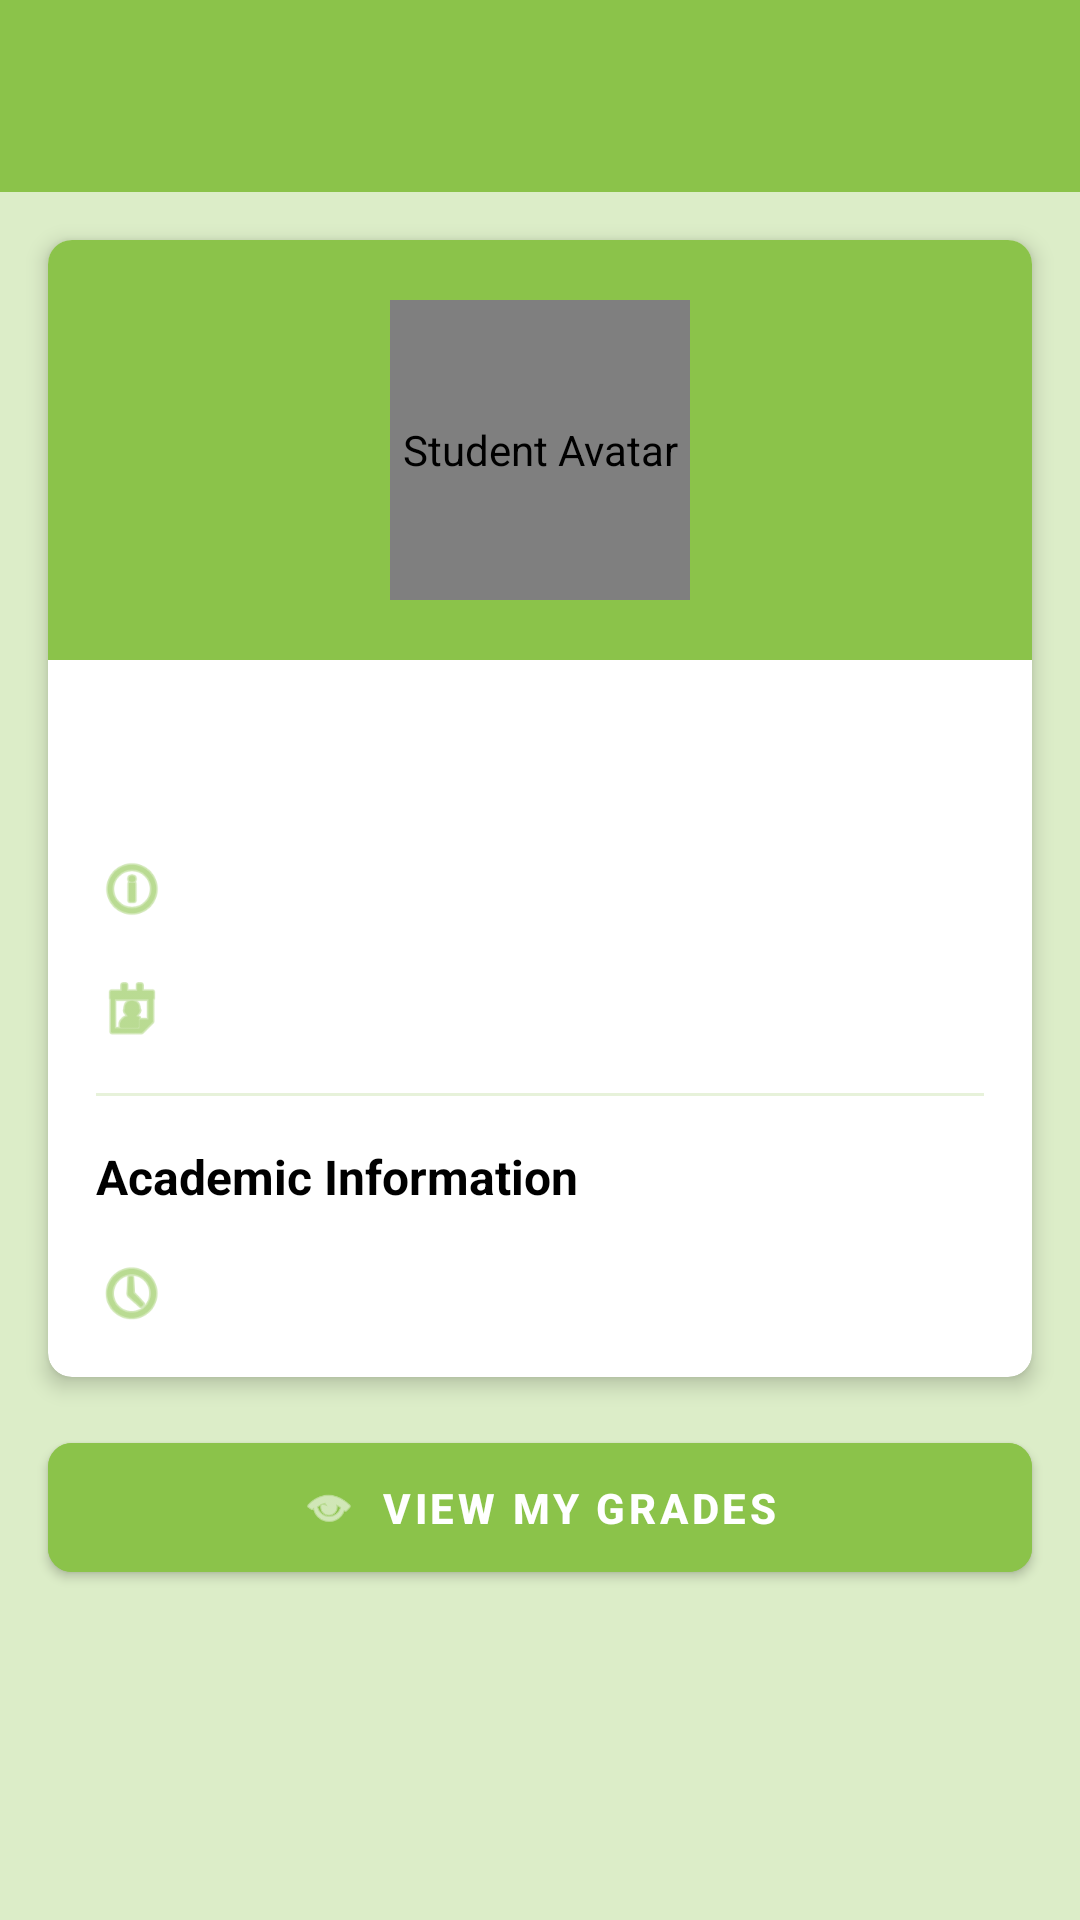

Named icons in this screenshot (1080px×1920px) and their centers, (x=x, y=y):
Academic Year Icon: (x=132, y=1293)
